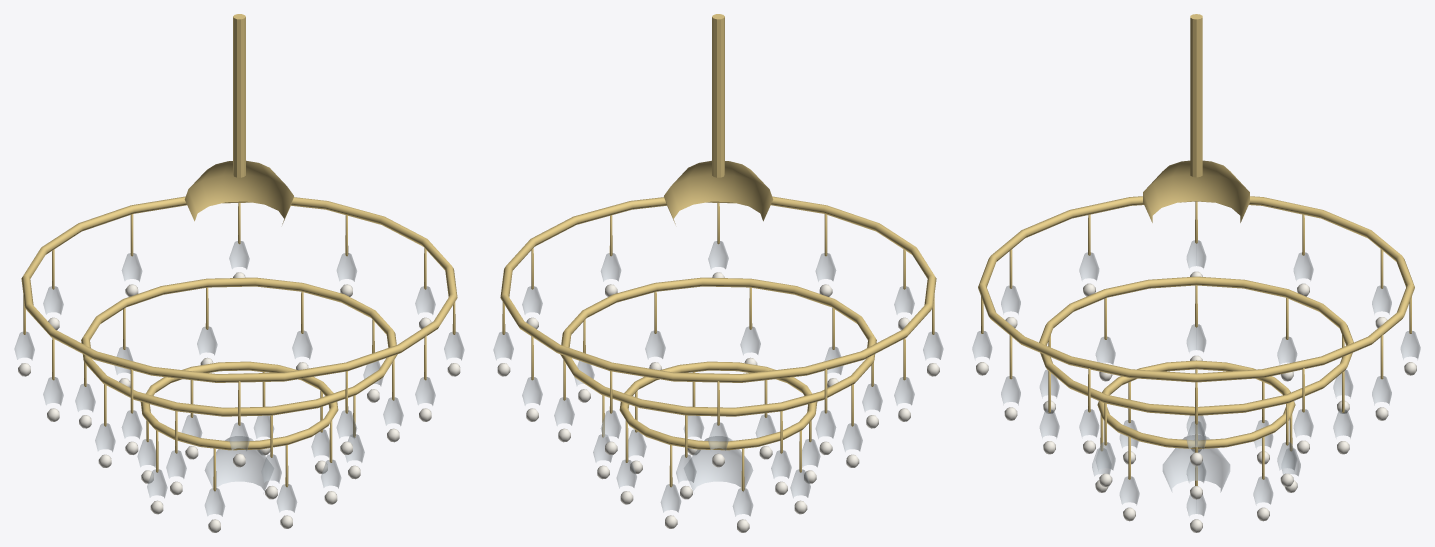
The model's file is chandelier.glb.
The picture shows the model from 3 angles, left to right: view 1: azimuth 30°, elevation 25°; view 2: azimuth 150°, elevation 25°; view 3: azimuth 270°, elevation 25°; orthographic projection.
Visible parts, largest first — view 1: chandelier; view 2: chandelier; view 3: chandelier.
Boxes of the visible parts, x1,y1,x2,y2 form: chandelier: (14, 14, 464, 532); chandelier: (493, 14, 943, 532); chandelier: (972, 14, 1420, 532).
Size of the model in its own units: 1.8 by 2.11 by 1.8.
